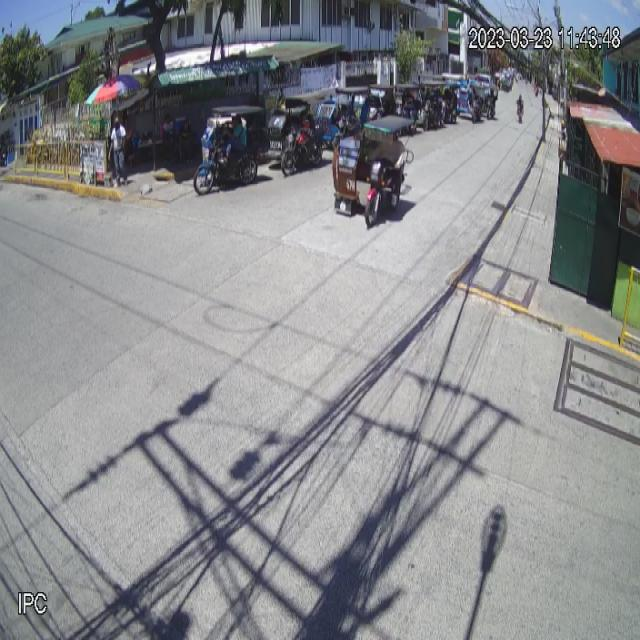Tricycle: (331, 115, 415, 231)
